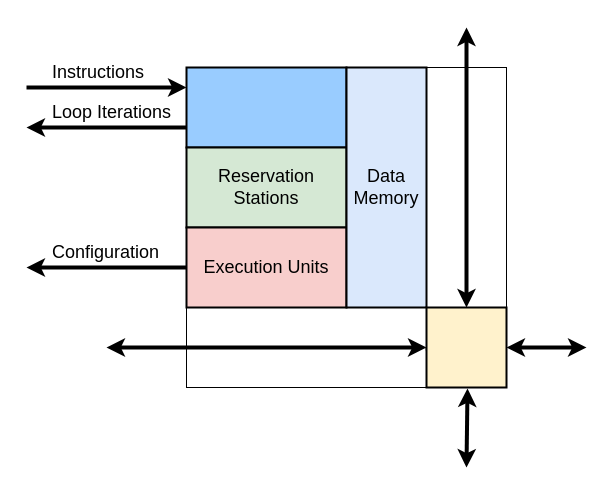
Some shapes in this 614 by 495 pixel diagram are drawn without their labels. The shapes that lost their labels are listed below. From the top down, each one's centre as x and y in pixels, then its label:
the point at 266,107: Register File
the point at 466,347: Network Node
